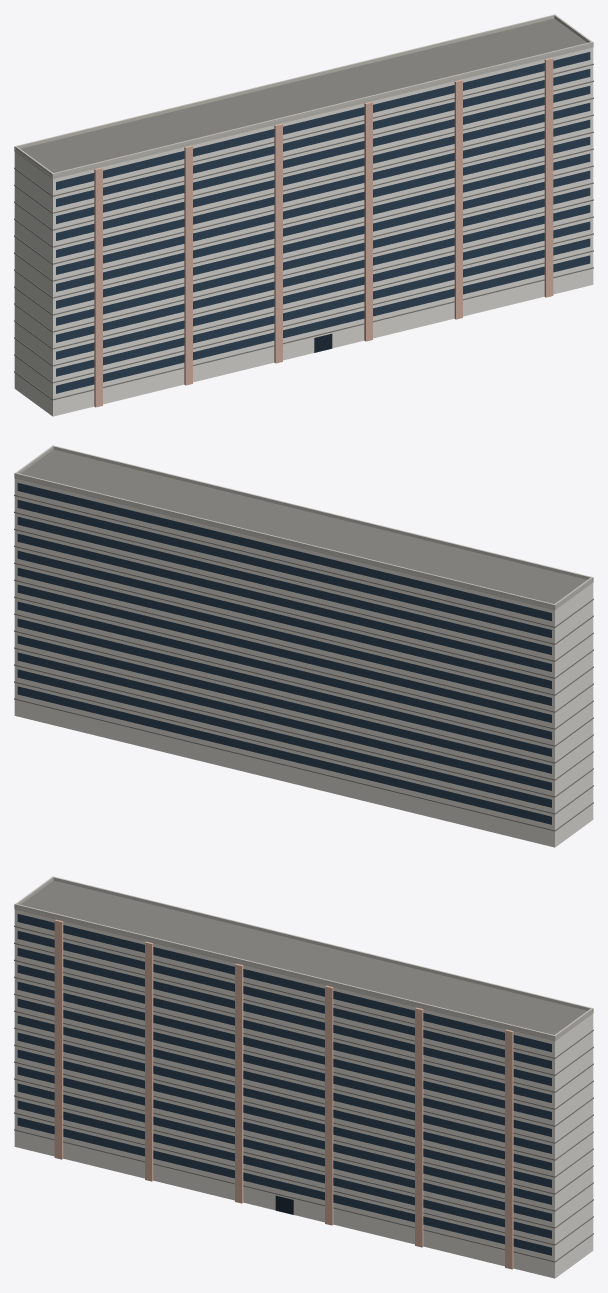
File: grand_ensemble.glb
3 renders of one model, top to bottom at view 1: azimuth 30°, elevation 25°; view 2: azimuth 150°, elevation 25°; view 3: azimuth 330°, elevation 25°, orthographic.
Visible parts, largest first — view 1: grand_ensemble; view 2: grand_ensemble; view 3: grand_ensemble.
Boxes of the visible parts, <box> form: grand_ensemble: <box>14,14,593,416</box>; grand_ensemble: <box>14,445,593,847</box>; grand_ensemble: <box>14,876,593,1278</box>.
Bounding box in the file's own units: 90.16 × 38.6 × 11.48.
1 material, 1 textured.
